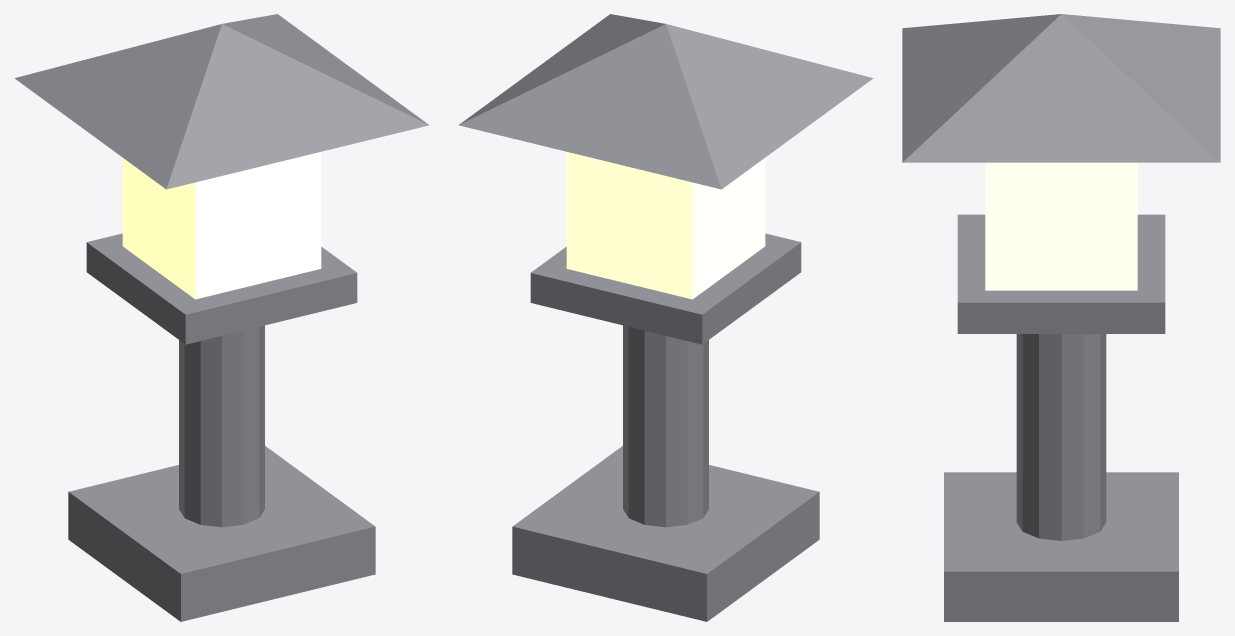
Rendered from stone_lantern.glb.
The picture shows the model from 3 angles, left to right: view 1: azimuth 30°, elevation 25°; view 2: azimuth 150°, elevation 25°; view 3: azimuth 270°, elevation 25°; orthographic projection. The views are drawn at different scales.
Parts seen in each view (by area): view 1: StoneLantern; view 2: StoneLantern; view 3: StoneLantern.
Boxes of the visible parts, x1,y1,x2,y2 form: StoneLantern: [14, 14, 429, 621]; StoneLantern: [458, 14, 873, 621]; StoneLantern: [902, 14, 1220, 621].
Size of the model in its own units: 0.92 by 1.78 by 0.92.
